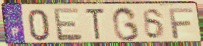0: (27, 8, 52, 43)
6: (141, 8, 166, 40)
E: (52, 7, 84, 42)
F: (168, 7, 195, 40)
G: (110, 5, 140, 42)
T: (84, 8, 107, 42)
